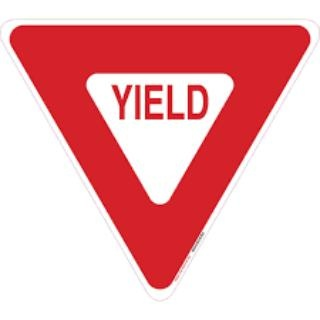sign_yield: (4, 21, 317, 301)
